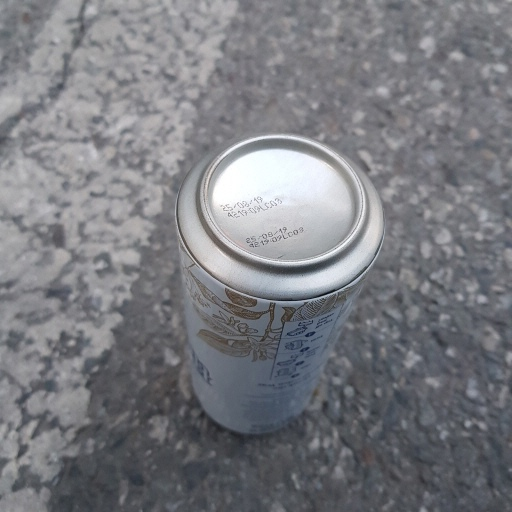Metal_0: (172, 130, 387, 440)
